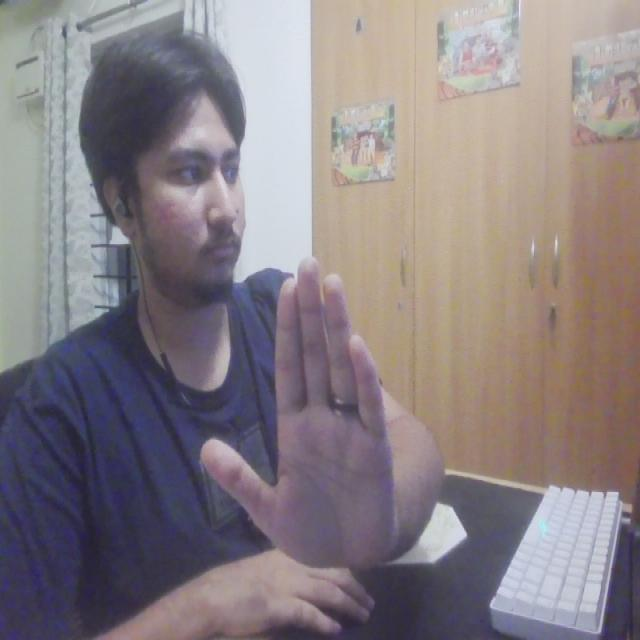hello: (196, 249, 402, 599)
